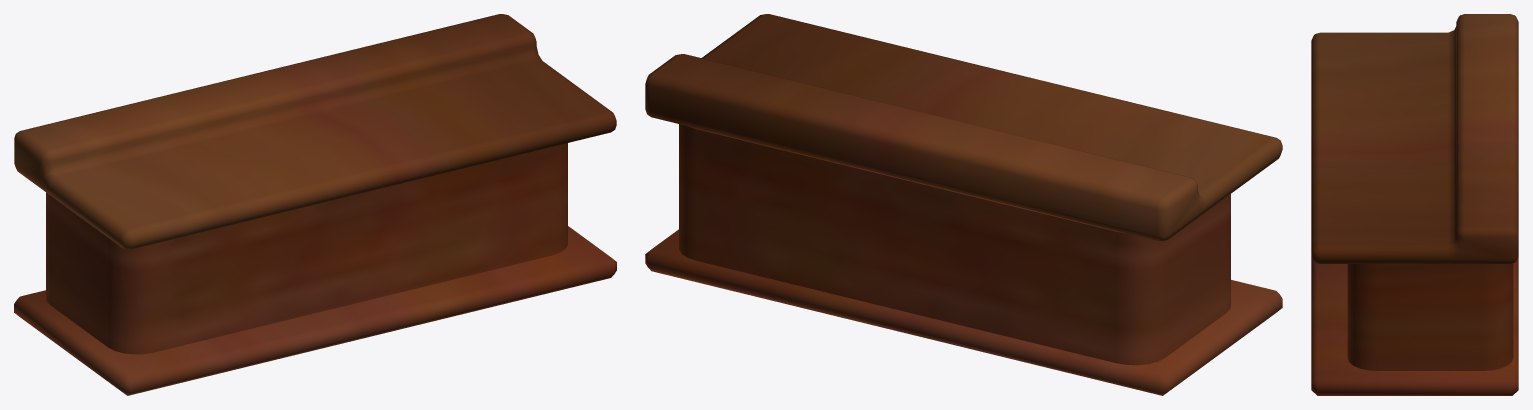
Rendered from CounterA.fbx.
3 views of the same model, side by side, from view 1: azimuth 30°, elevation 25°; view 2: azimuth 150°, elevation 25°; view 3: azimuth 270°, elevation 25° (orthographic). The views are drawn at different scales.
Visible parts, largest first — view 1: CounterA; view 2: CounterA; view 3: CounterA.
Part boxes in pixels (x1,y1,x2,y2): CounterA: [14, 14, 616, 395]; CounterA: [645, 14, 1282, 395]; CounterA: [1311, 14, 1518, 395].
Bounding box in the file's own units: 2.5 × 0.9 × 1.
1 material, 1 textured.
